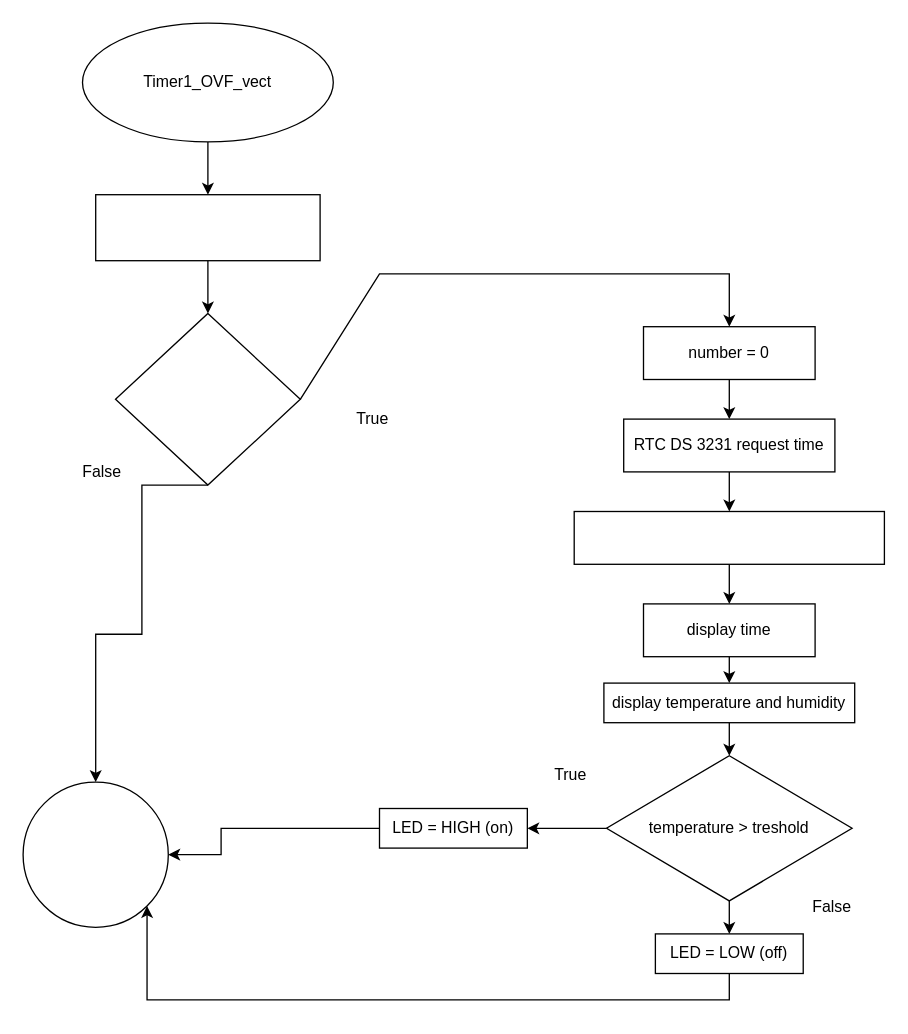
Image size: 908x1034. Some labels were removed from this diagram. Here are the shapes that lost their labels. From the top down, the centre of each, then its label:
At point 207,227: "number of OVF ++".
At point 207,398: "number > 60".
At point 728,537: "DHT12 request temperature and humidity".
At point 95,854: "END".
